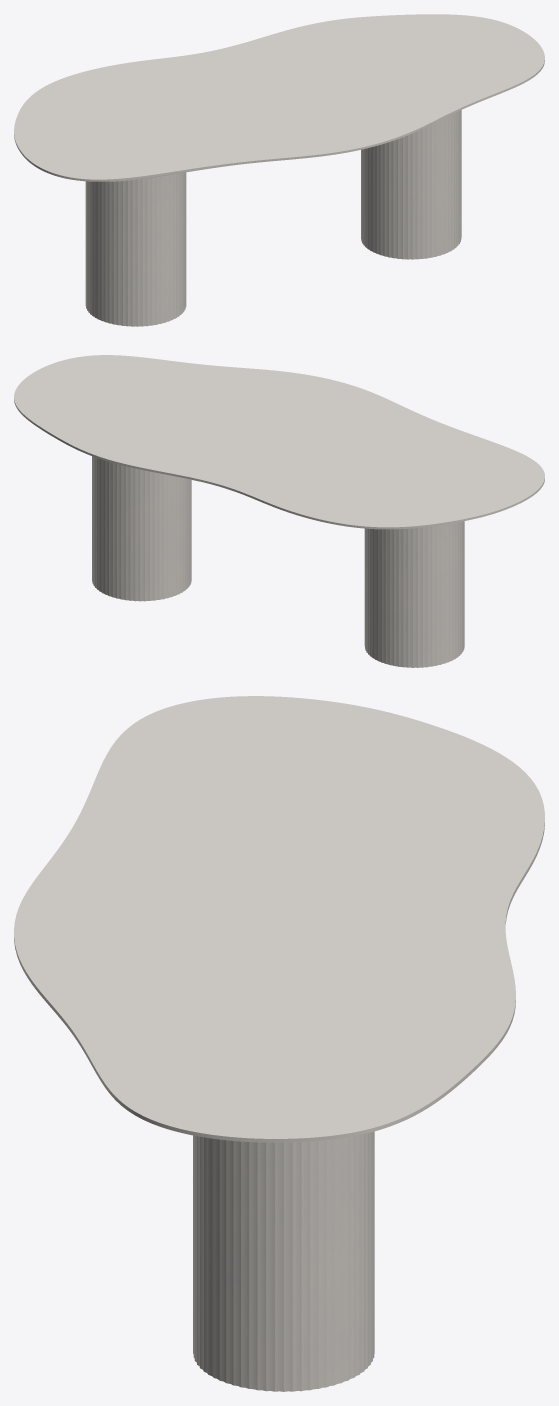
Rendered from pearlwhite_toplast_facet_ripplesecond.glb.
The picture shows the model from 3 angles, top to bottom: view 1: azimuth 30°, elevation 25°; view 2: azimuth 150°, elevation 25°; view 3: azimuth 270°, elevation 25°; orthographic projection. The views are drawn at different scales.
Parts seen in each view (by area): view 1: facet_toplast, ripplesecond; view 2: facet_toplast, ripplesecond; view 3: facet_toplast, ripplesecond.
Boxes of the visible parts, <box> form: facet_toplast: <box>14,14,544,181</box>; ripplesecond: <box>85,110,461,326</box>; facet_toplast: <box>14,355,544,529</box>; ripplesecond: <box>92,456,464,667</box>; facet_toplast: <box>14,696,544,1142</box>; ripplesecond: <box>193,1131,374,1391</box>.
Size of the model in its own units: 7.5 by 2.5 by 3.8.
Materials: 1 (1 with a texture image).
